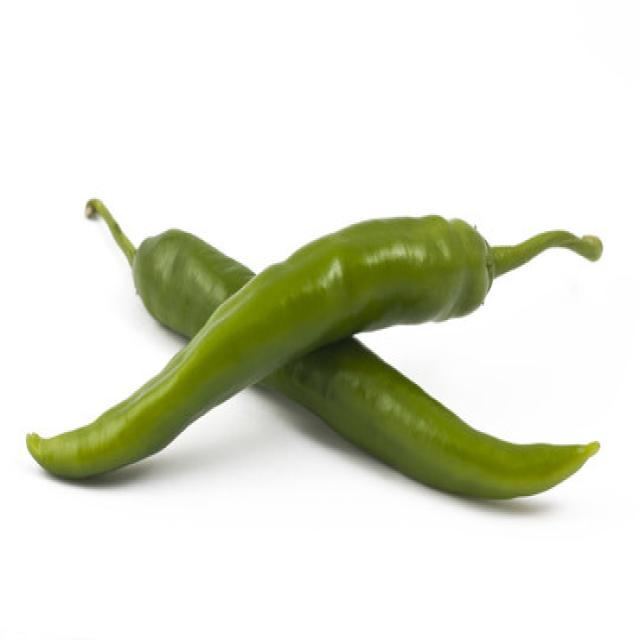Chilli: (27, 197, 602, 498), (251, 332, 600, 500)
